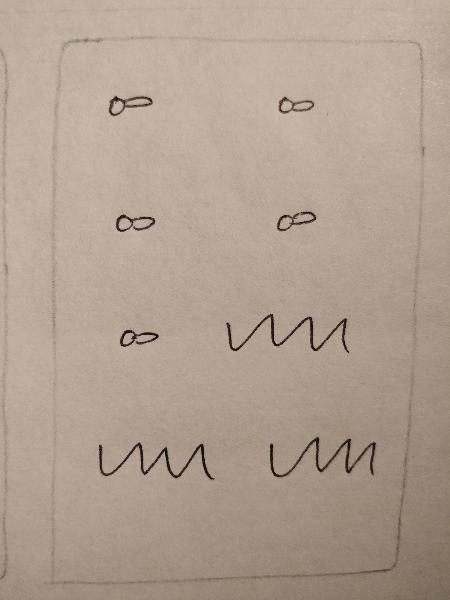switch: (103, 317, 174, 363), (98, 79, 166, 124), (101, 196, 165, 242), (265, 80, 323, 126), (264, 201, 327, 238)
text: (85, 429, 221, 494), (212, 305, 356, 365), (256, 424, 385, 486)
